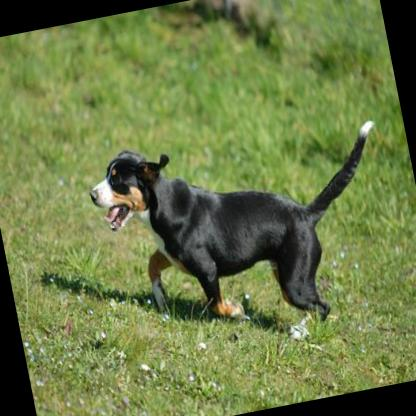EntleBucher: (73, 80, 416, 376)
